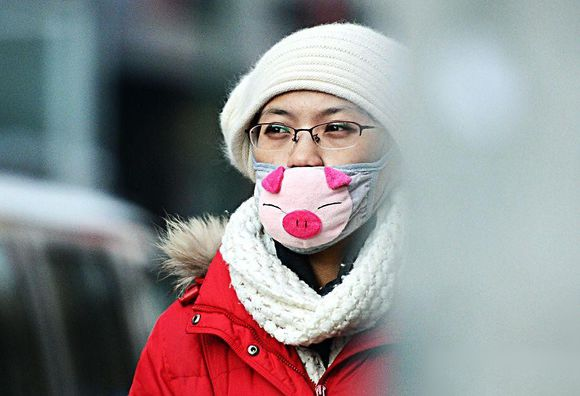face_mask: (253, 78, 384, 251)
